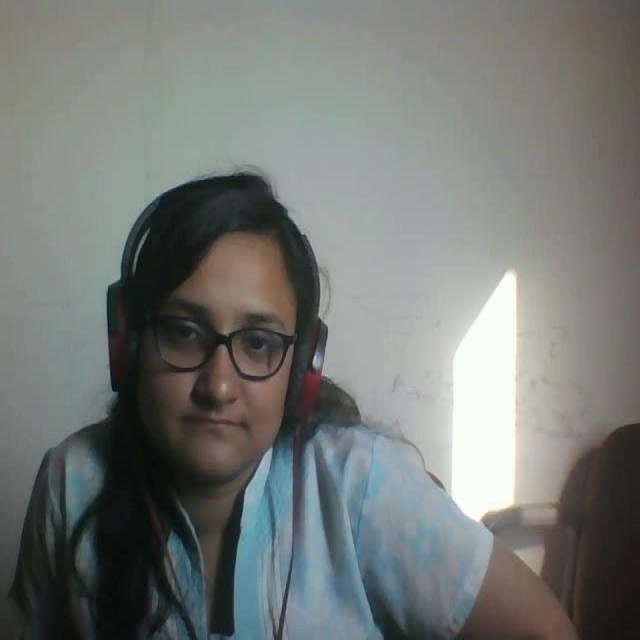Engaged: (91, 144, 351, 513)
